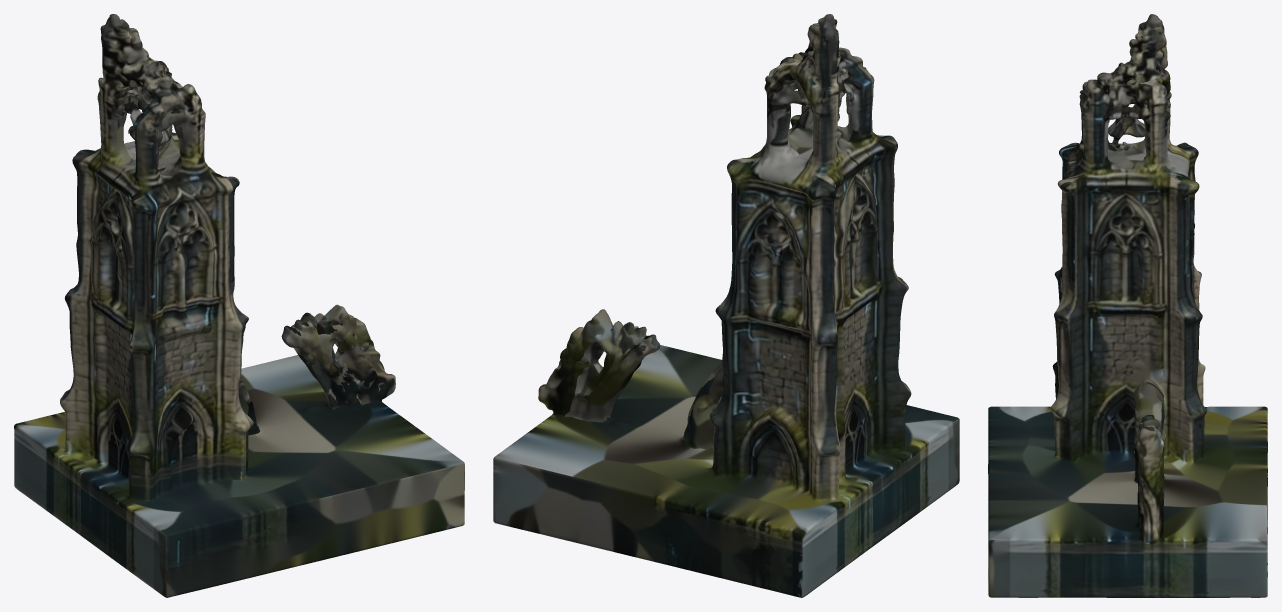
Rendered from struct_bell_tower.glb.
3 views of the same model, side by side, from view 1: azimuth 30°, elevation 25°; view 2: azimuth 150°, elevation 25°; view 3: azimuth 270°, elevation 25° (orthographic). The views are drawn at different scales.
Parts seen in each view (by area): view 1: geometry_0; view 2: geometry_0; view 3: geometry_0.
Boxes of the visible parts, x1,y1,x2,y2 form: geometry_0: (14,14,464,597); geometry_0: (493,14,959,597); geometry_0: (988,14,1267,597).
Size of the model in its own units: 11.76 by 18 by 9.78.
Materials: 1 (1 with a texture image).
